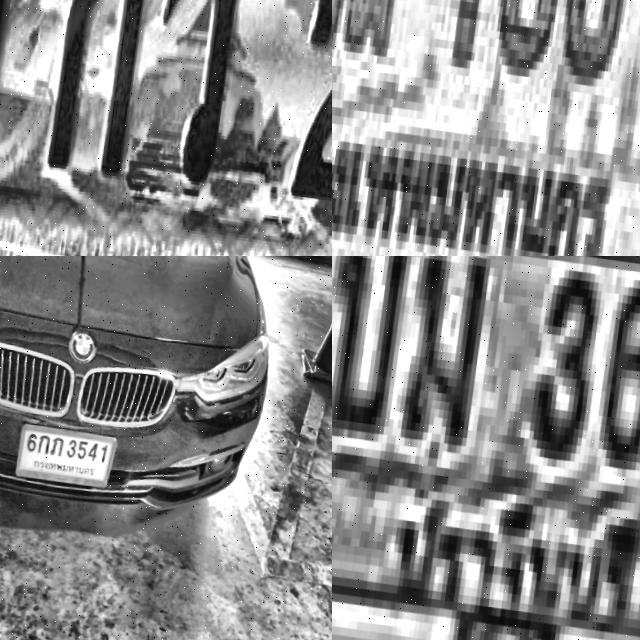license-plate: (332, 256, 640, 640), (0, 0, 332, 256), (332, 0, 640, 256), (15, 413, 119, 490)
